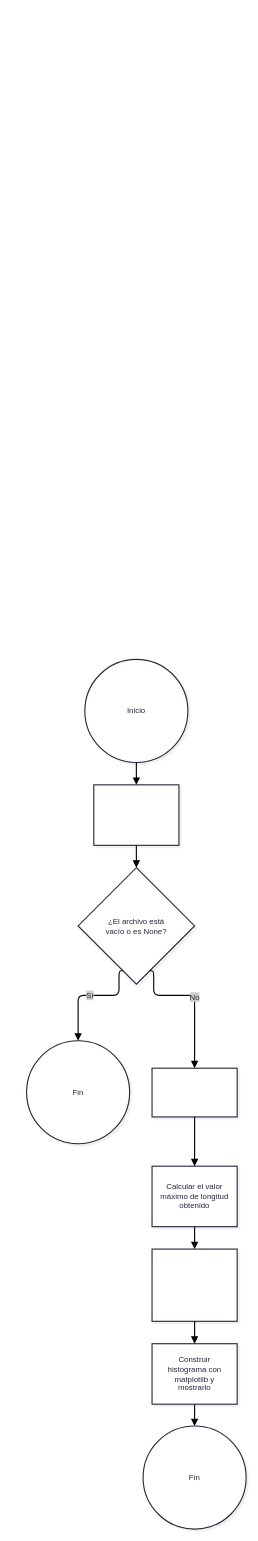
This 258x1541 diagram has some shape labels left out. Here are the shapes that lost their labels. From the top down, the centre of each, then its label:
At pixel 137 816: "Leer líneas del archivo mediante leer_txt".
At pixel 195 1093: "Calcular longitud de cada línea sin saltos finales".
At pixel 195 1286: "Generar intervalos dinámicos de longitud para las barras".
